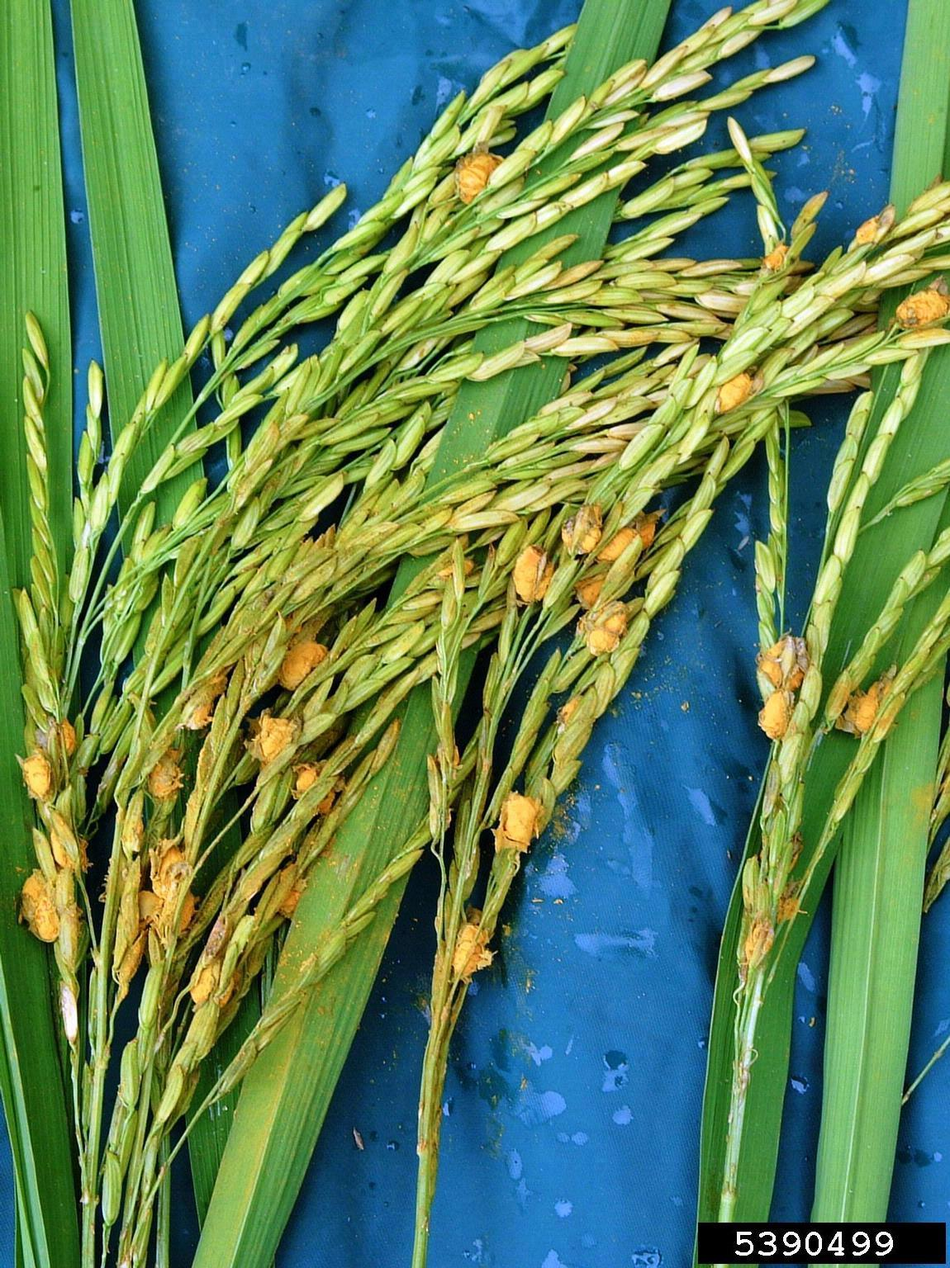False Smut: (833, 669, 911, 743), (11, 865, 77, 952), (595, 496, 672, 570), (492, 788, 561, 861), (743, 623, 810, 696), (439, 143, 514, 205), (884, 276, 950, 344), (443, 910, 502, 985), (567, 595, 635, 659), (746, 681, 809, 747), (558, 558, 631, 614), (269, 624, 330, 691), (551, 493, 608, 561), (242, 713, 309, 770), (140, 882, 200, 945), (188, 945, 247, 1009), (288, 759, 342, 827), (177, 670, 231, 734), (34, 812, 90, 872), (18, 743, 67, 809), (134, 744, 186, 803), (511, 545, 558, 608), (270, 857, 317, 920), (150, 837, 194, 901), (735, 913, 774, 984), (847, 208, 900, 253), (710, 364, 767, 405), (764, 877, 805, 929), (113, 802, 151, 857), (756, 239, 800, 272)
